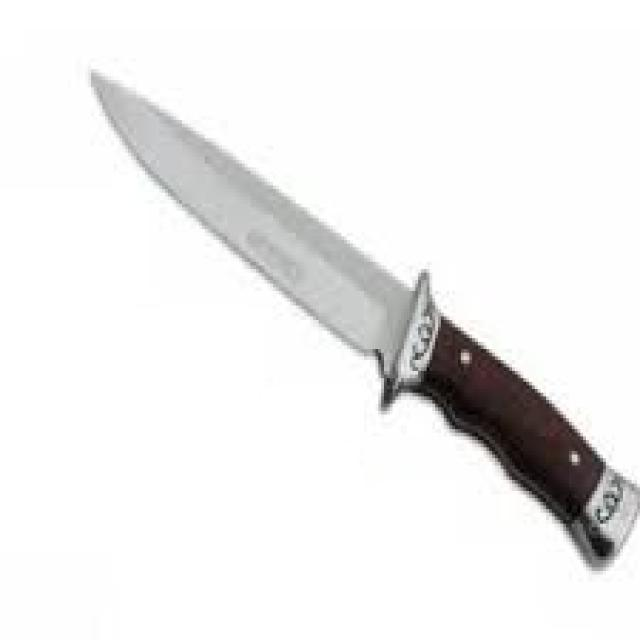knife: (86, 56, 640, 579)
